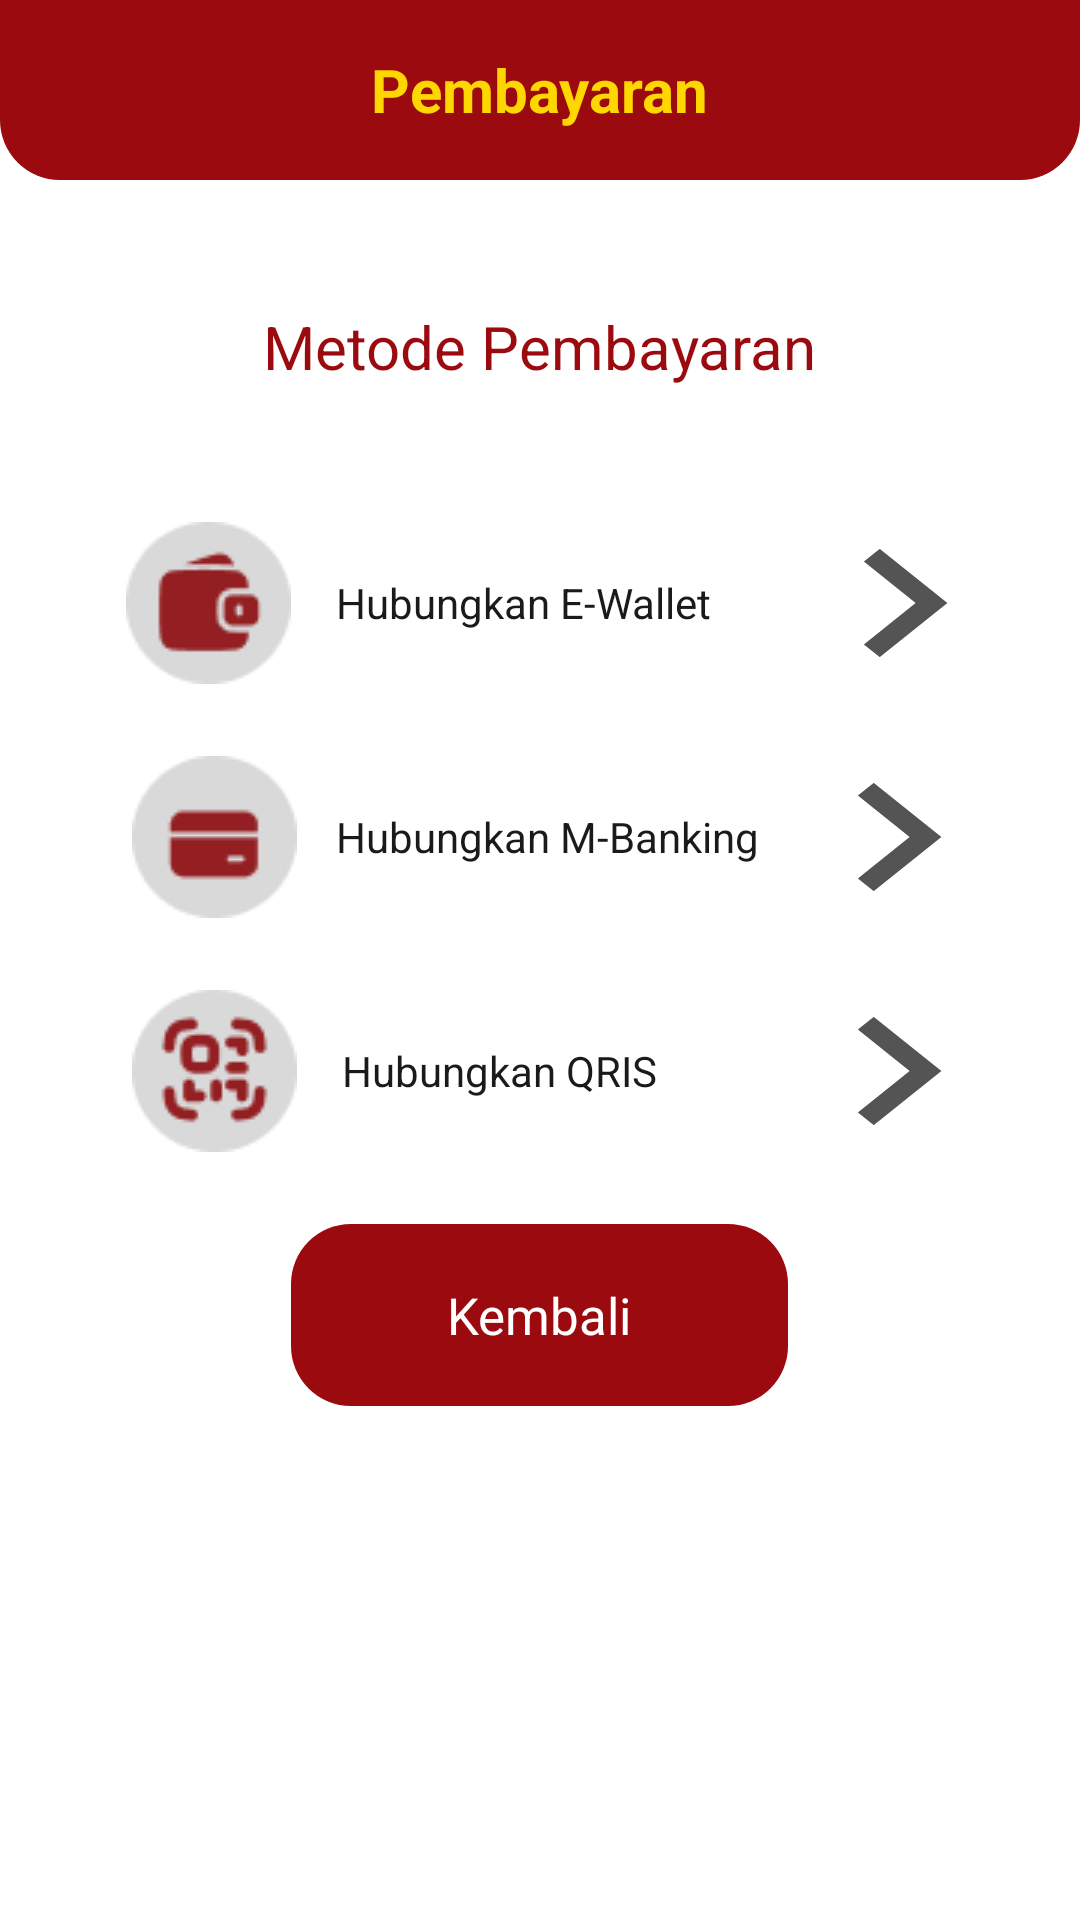

Where icons sit on this 1080w x 1920h app screen, as [x1, y1, x2, y2]:
blackarrow: [864, 549, 947, 657], [858, 783, 941, 891], [858, 1017, 941, 1125]
iconemoney: [126, 522, 291, 684]
iconmbanking: [132, 756, 297, 918]
iconqris: [132, 990, 297, 1152]
